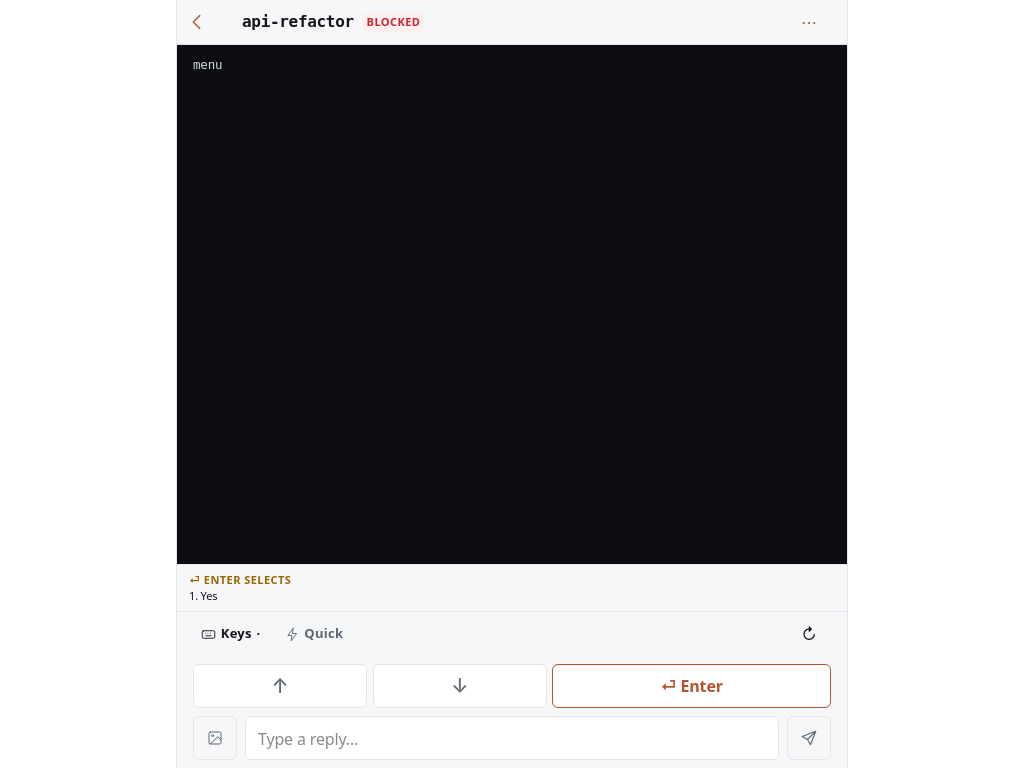
Test: the Enter preview shows what is selected, and FOLLOWS the cursor
Expected: the message with class "term-selected" shows "1. Yes", [189, 588, 217, 603]
Click the button with class "term-key".
click(460, 686)  # box [373, 664, 547, 708]
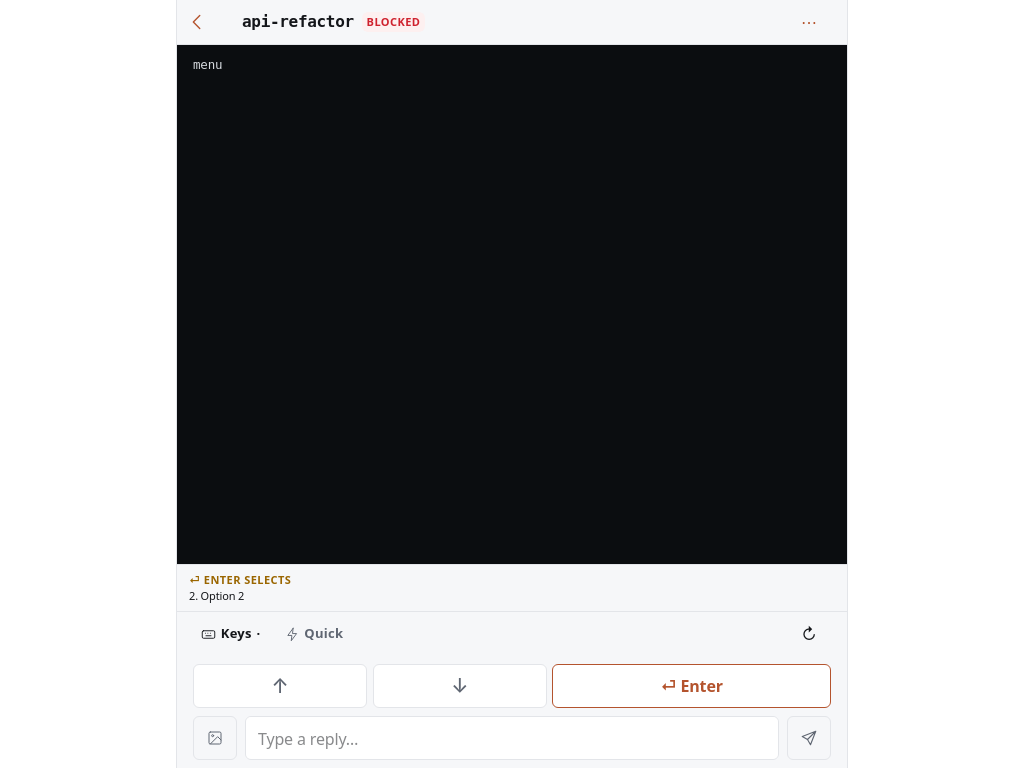
Result: the message with class "term-selected" shows "2. Option 2" at [189, 588, 244, 603]
